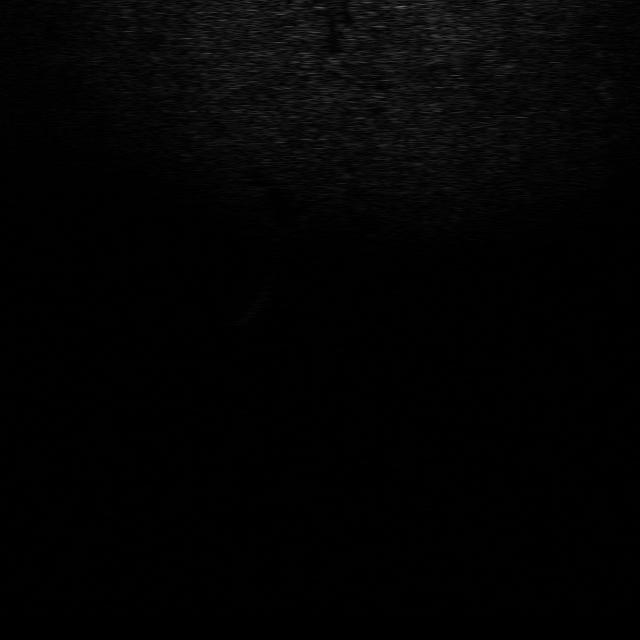human body: (230, 283, 271, 323)
